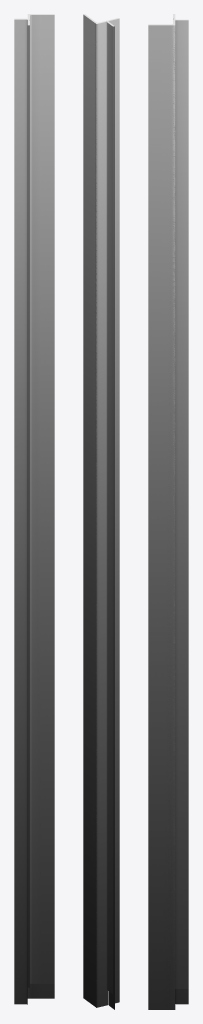
File: HolePieces.fbx
3 views of the same model, side by side, from view 1: azimuth 90°, elevation 25°; view 2: azimuth 210°, elevation 25°; view 3: azimuth 270°, elevation 25° (orthographic).
Parts seen in each view (by area): view 1: HoleInnerCorner, HoleStraight, HoleOutterCorner; view 2: HoleInnerCorner, HoleOutterCorner, HoleStraight; view 3: HoleStraight, HoleInnerCorner, HoleOutterCorner.
Part boxes in pixels (x1,y1,x2,y2): HoleInnerCorner: (14,18,29,1004); HoleStraight: (27,14,54,998); HoleOutterCorner: (27,14,41,998); HoleInnerCorner: (106,18,119,1009); HoleOutterCorner: (90,19,108,1007); HoleStraight: (83,14,97,1007); HoleStraight: (148,24,175,1009); HoleInnerCorner: (173,14,188,1004); HoleOutterCorner: (161,19,175,1009).
Size of the model in its own units: 1 by 40.7 by 1.5.
